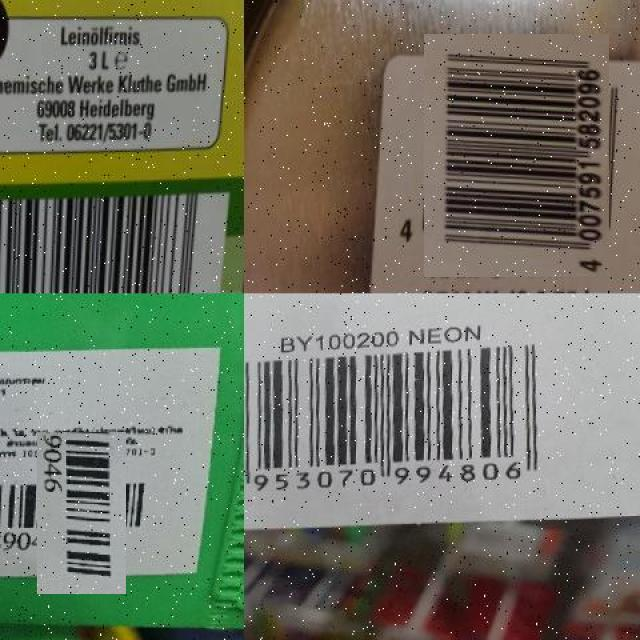Barcode: (244, 333, 569, 488), (409, 49, 624, 263), (0, 187, 234, 293), (19, 449, 144, 576)
